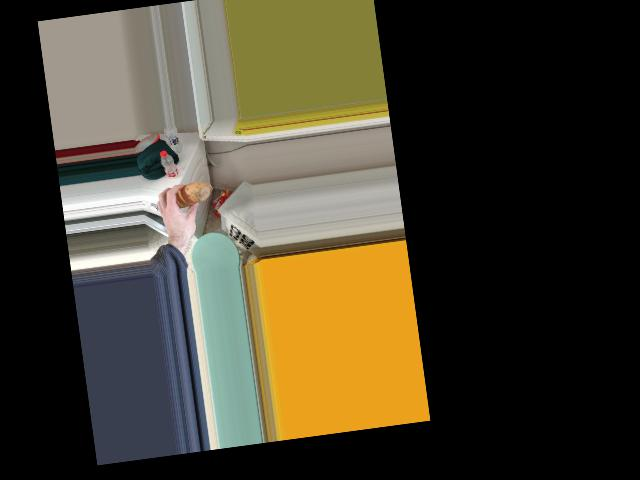sweet_potato: (170, 179, 205, 214)
